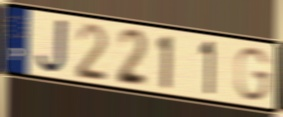1: (156, 32, 175, 91), (198, 39, 215, 97)
2: (116, 27, 151, 88), (75, 20, 108, 83)
G: (234, 46, 273, 104)
J: (35, 16, 69, 75)
